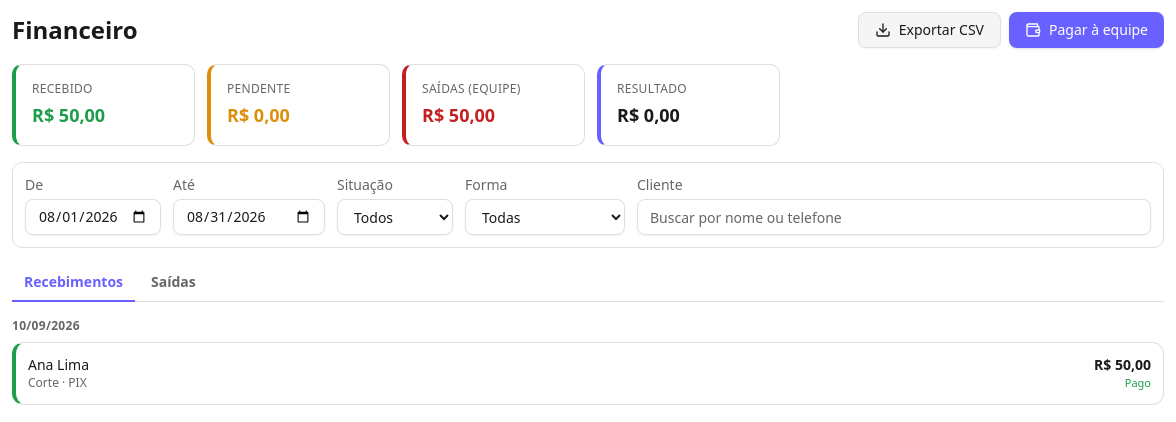
Scenario: Financeiro — recebimentos (Stories 5.2/5.3) › desktop — abas (reorg UX): Recebimentos mostra a lista + filtros; Saídas troca a leitura
Expected: the text "Ana Lima" is shown, [28,355,89,375]
Expected: the dropdown labelled "Situação" is shown, [337,199,453,235]
// Troca para Saídas: recibo some, filtro Situação some, saída aparece.
Click the tab "Saídas".
click(173, 283)  # box [139,264,208,302]
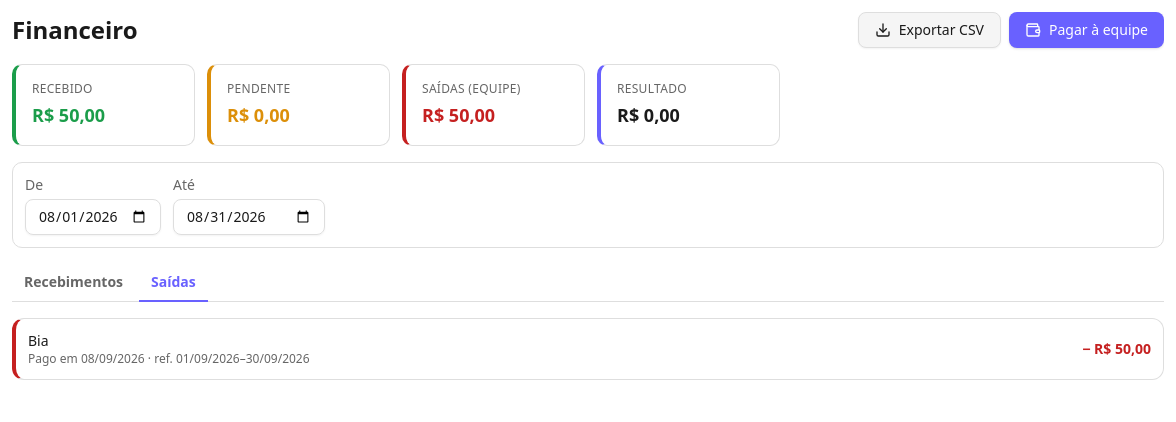
Now the button "Ana Lima" is gone
Now the text labelled "Situação" is gone
Now the text "Bia" is shown, box [28,331,49,350]
